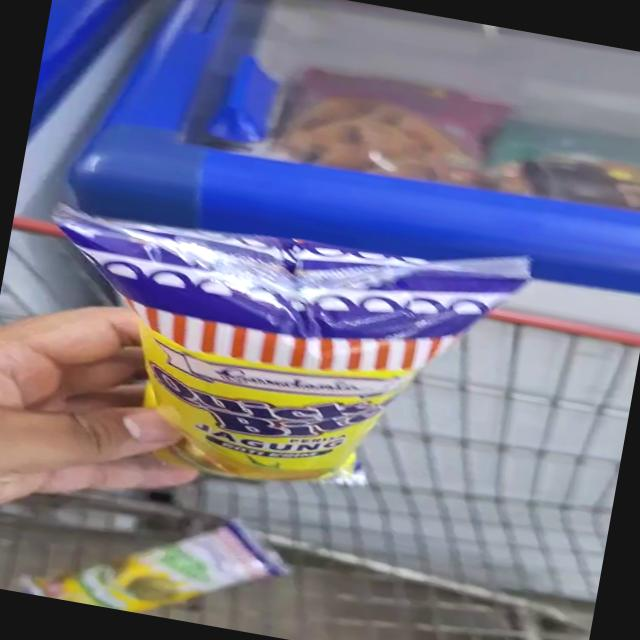Roti: (20, 190, 489, 524), (38, 506, 298, 638)
